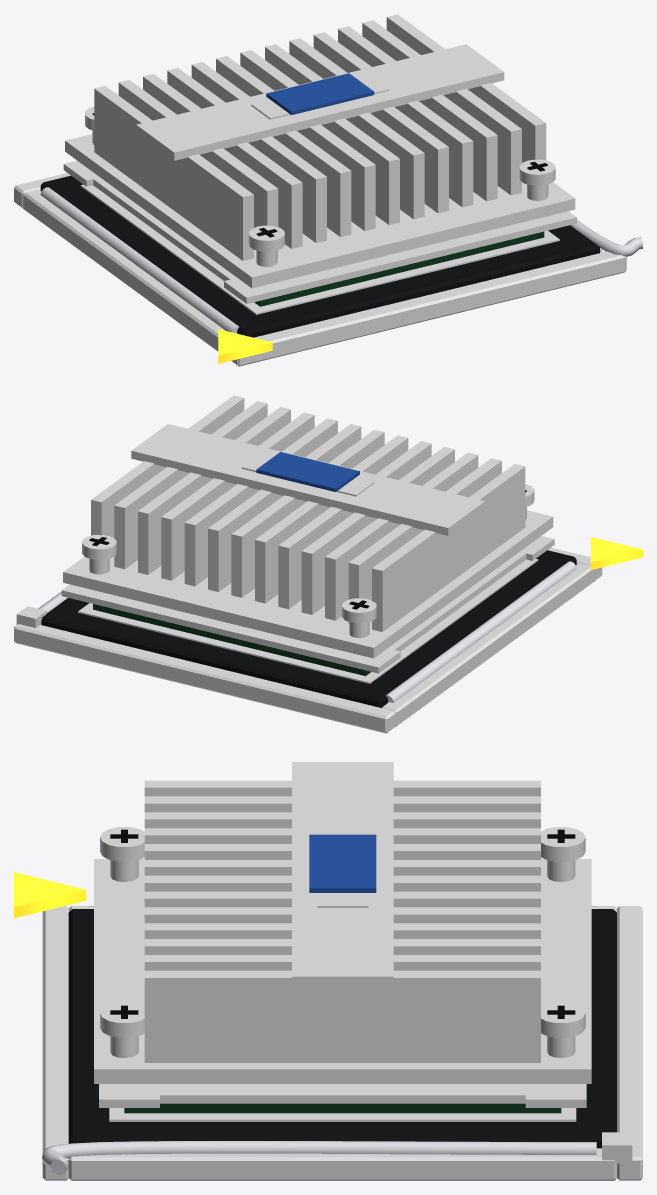
Rendered from hwm_cpu_xeon_e3_1230.glb.
The picture shows the model from 3 angles, top to bottom: view 1: azimuth 30°, elevation 25°; view 2: azimuth 150°, elevation 25°; view 3: azimuth 270°, elevation 25°; orthographic projection. The views are drawn at different scales.
Parts seen in each view (by area): view 1: Cooler, Socket, Frame, CPU, Screw_3, Screw_1, Lever; view 2: Cooler, Socket, Frame, CPU, Screw_2, Screw_0; view 3: Cooler, Socket, Frame, Lever, CPU, Screw_1, Screw_3, Screw_0, Screw_2.
Part boxes in pixels (left/top/right/bottom): Cooler: left=65, top=14, right=575, bottom=288; Socket: left=14, top=173, right=626, bottom=366; Frame: left=63, top=160, right=576, bottom=303; CPU: left=254, top=231, right=544, bottom=306; Screw_3: left=519, top=159, right=555, bottom=200; Screw_1: left=248, top=225, right=284, bottom=266; Lever: left=570, top=220, right=642, bottom=256; Cooler: left=63, top=395, right=553, bottom=658; Socket: left=14, top=537, right=642, bottom=733; Frame: left=61, top=536, right=554, bottom=673; CPU: left=93, top=604, right=371, bottom=676; Screw_2: left=82, top=534, right=116, bottom=574; Screw_0: left=342, top=598, right=376, bottom=637; Cooler: left=94, top=762, right=591, bottom=1083; Socket: left=14, top=872, right=642, bottom=1180; Frame: left=99, top=1084, right=586, bottom=1107; Lever: left=42, top=1141, right=596, bottom=1174; CPU: left=124, top=1103, right=561, bottom=1113; Screw_1: left=100, top=827, right=144, bottom=882; Screw_3: left=100, top=1003, right=144, bottom=1058; Screw_0: left=541, top=827, right=585, bottom=882; Screw_2: left=541, top=1003, right=585, bottom=1058.
Bounding box in the file's own units: 0.1338 × 0.0421 × 0.1239.
